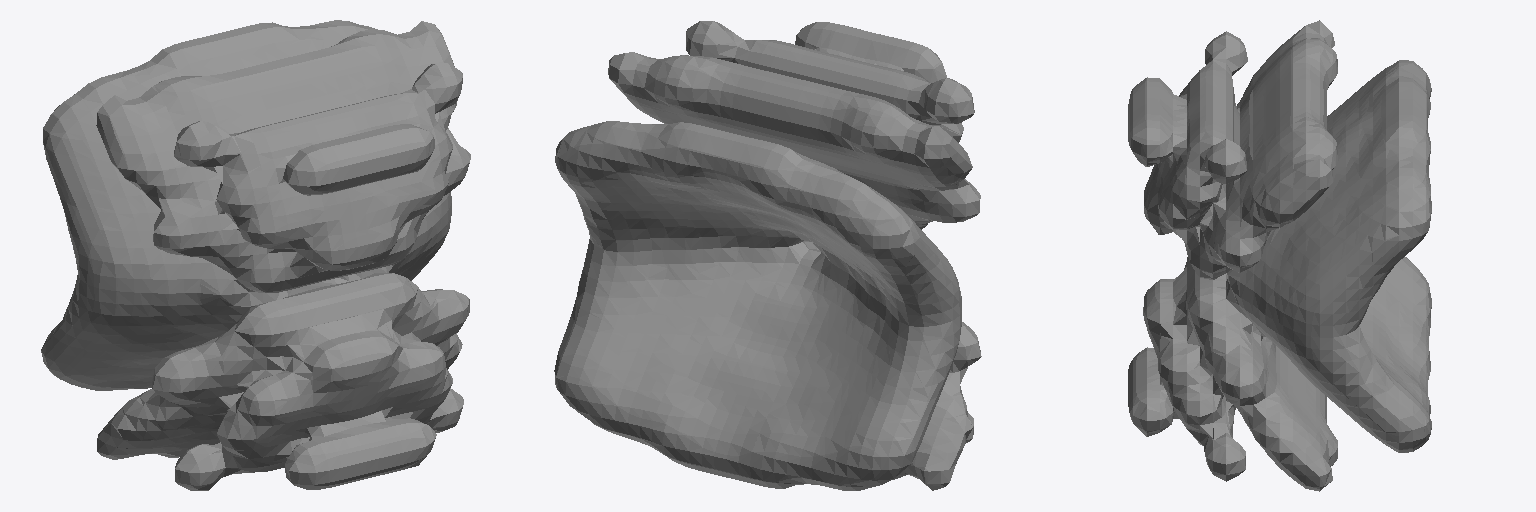
URDF robot description (cube.urdf):
<?xml version="0.0" ?> 
<robot name="cube.urdf"> 
<link name="legobrick"> 
<contact> 
<lateral_friction value="5.0"/> 
<rolling_friction value="0.0"/> 
<contact_cfm value="0.0"/> 
<contact_erp value="1.0"/> 
</contact> 
<inertial> 
<origin rpy="0 0 0" xyz="0.0 0.0 0.0"/> 
<mass value=".01"/> 
<inertia ixx="1" ixy="0" ixz="0" iyy="1" iyz="0" izz="1"/> 
</inertial> 
<visual> 
<origin rpy="1.570796 0 0" xyz="-0.026294140352866185 0.01934709693305662 -0.02633093672432161"/> 
<geometry> 
<mesh filename="R17_0.obj" scale="0.0005693113125909472 0.0005693113125909472 0.0005693113125909472"/> 
</geometry> 
<material name="yellow"> 
<color rgba="0.6 0.6 0.6 1"/> 
</material> 
</visual> 
<collision> 
<origin rpy="1.570796 0 0" xyz="-0.026294140352866185 0.01934709693305662 -0.02633093672432161"/> 
<geometry> 
<mesh filename="R17_0.obj" scale="0.0005693113125909472 0.0005693113125909472 0.0005693113125909472"/> 
</geometry> 
</collision> 
</link> 
</robot>

--- Render facts (derived) ---
Views: 3 orthographic renders of the robot side by side, from view 1: azimuth 30°, elevation 25°; view 2: azimuth 150°, elevation 25°; view 3: azimuth 270°, elevation 25°.
Robot: cube.urdf — 1 links, 0 joints (none); root link legobrick; default pose: all joints at 0.
Links seen in each view (by area): view 1: legobrick; view 2: legobrick; view 3: legobrick.
Link boxes in pixels (<box>): legobrick: <box>41,20,470,490</box>; legobrick: <box>554,21,981,490</box>; legobrick: <box>1128,20,1431,491</box>.
Bounding box of the posed robot: 0.0569 × 0.0448 × 0.056 m (x, y, z).
1 mesh visuals loaded from 1 distinct referenced files (1 OBJ).
